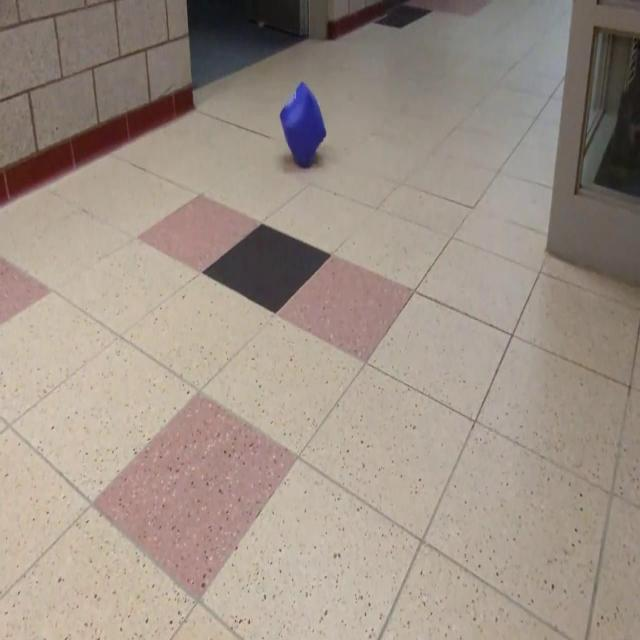frc_cube: (280, 81, 327, 170)
